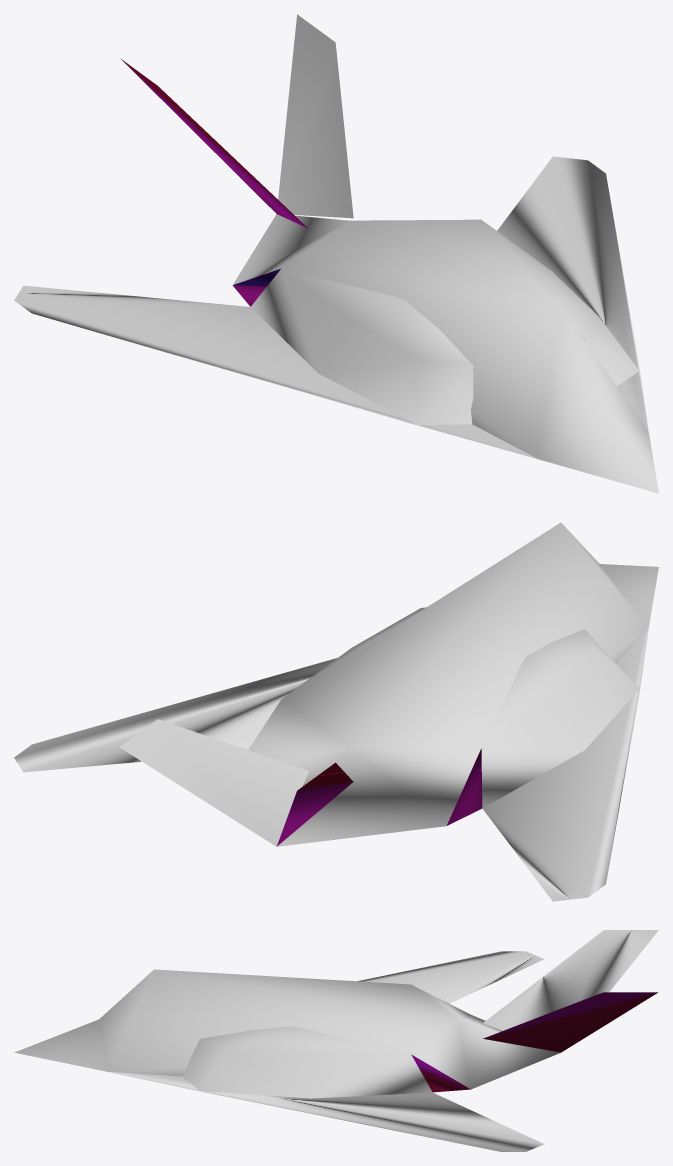
3 views of the same model, one above another, from view 1: azimuth 30°, elevation 25°; view 2: azimuth 150°, elevation 25°; view 3: azimuth 270°, elevation 25° (orthographic). The views are drawn at different scales.
Size of the model in its own units: 0.6985 by 0.1488 by 0.95.
